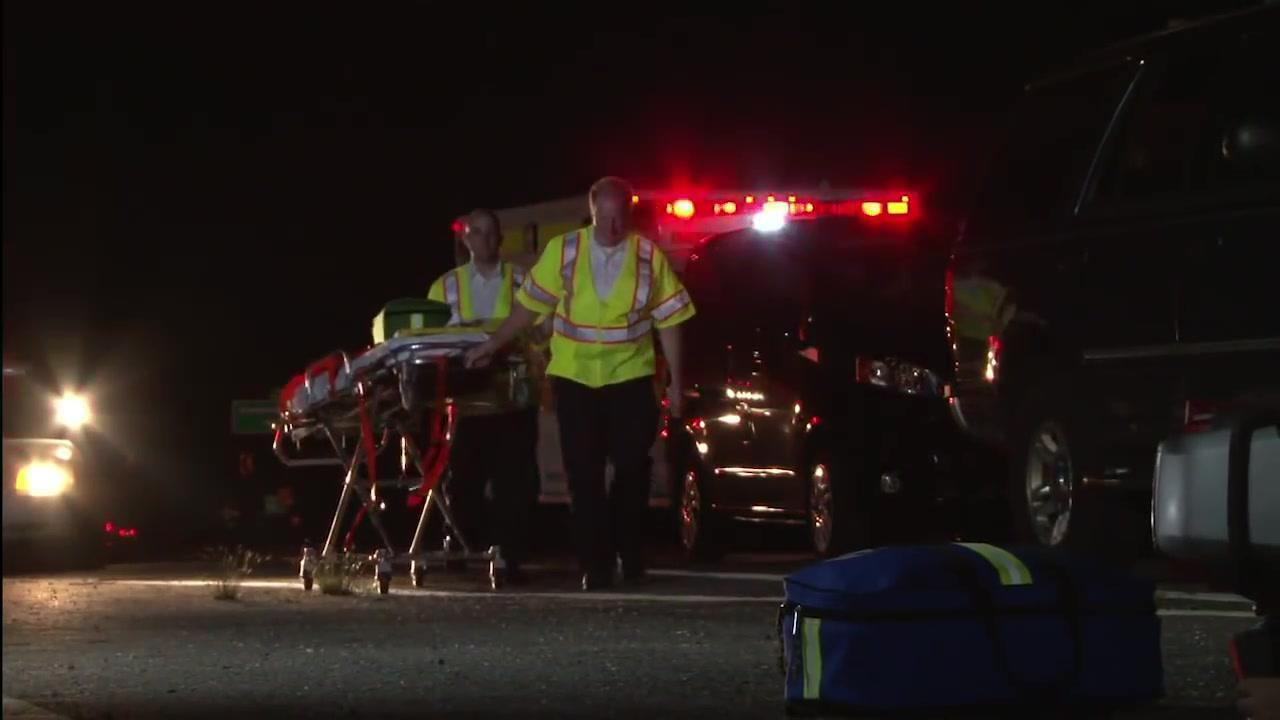Glass: (521, 230, 695, 379)
